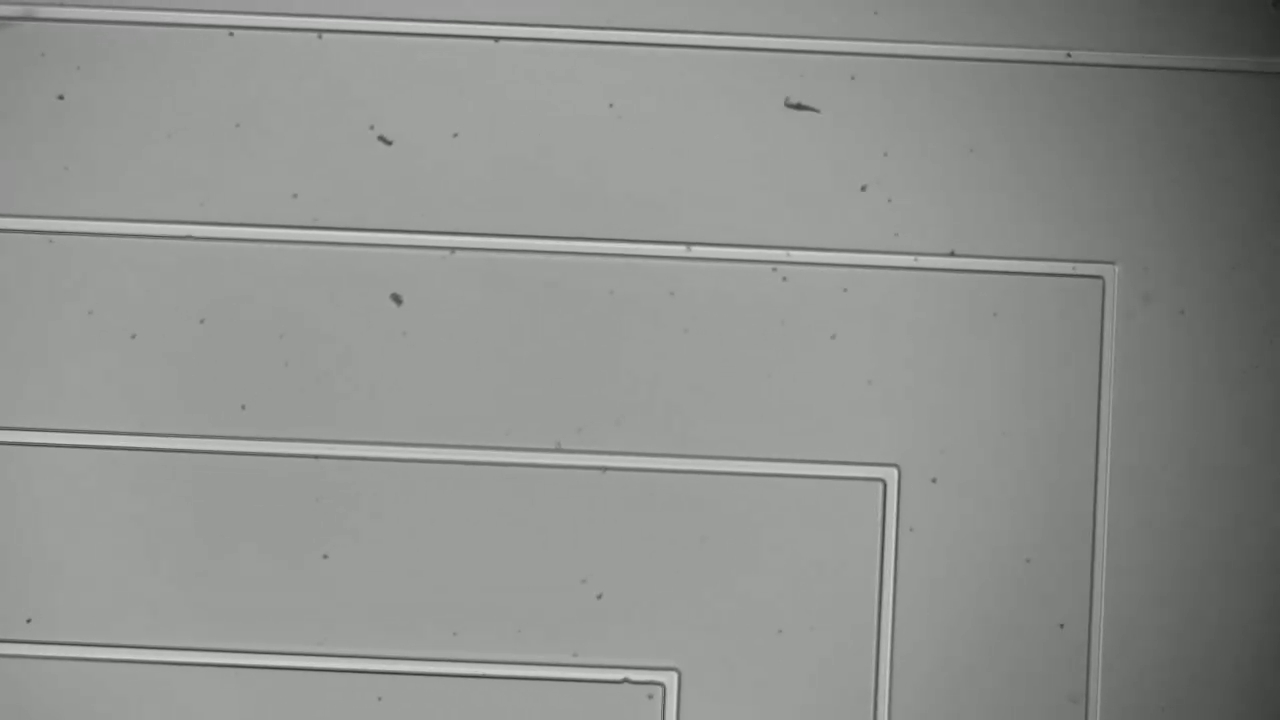edge_bite: (610, 655, 643, 692)
